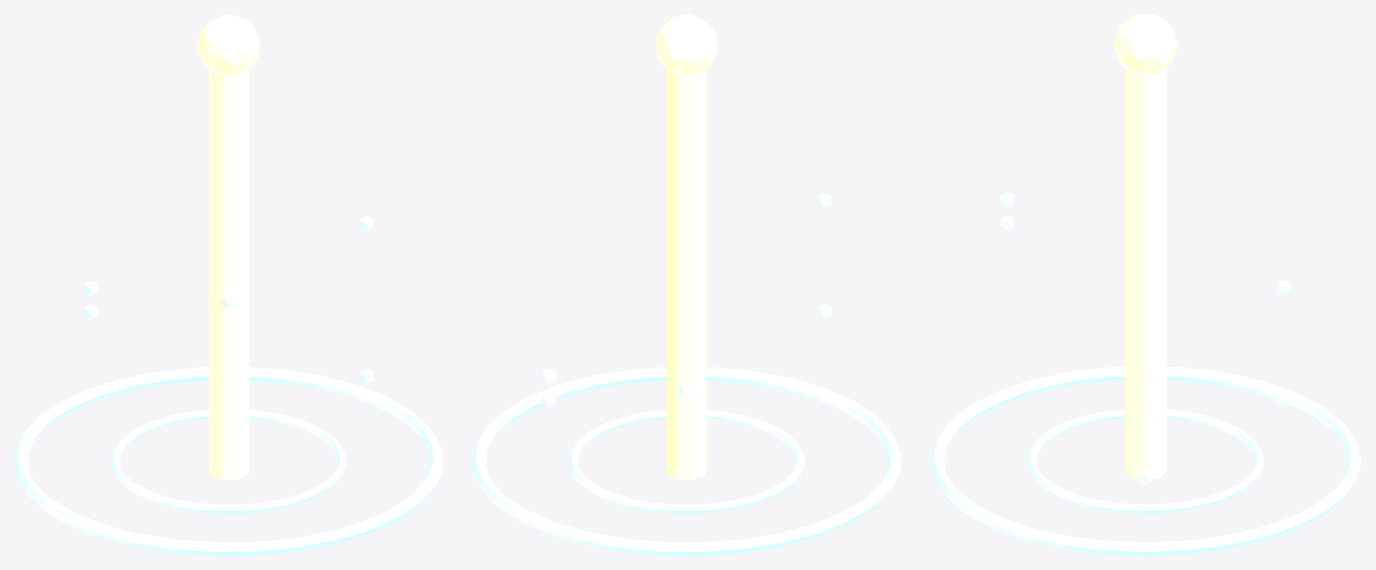
Rendered from drop-beacon-pillar.glb.
3 renders of one model, left to right at view 1: azimuth 30°, elevation 25°; view 2: azimuth 150°, elevation 25°; view 3: azimuth 270°, elevation 25°, orthographic.
Parts seen in each view (by area): view 1: drop-shaft, drop-ring, drop-ring-inner, drop-crown; view 2: drop-shaft, drop-ring, drop-ring-inner, drop-crown; view 3: drop-shaft, drop-ring, drop-ring-inner, drop-crown.
Boxes of the visible parts, x1,y1,x2,y2 form: drop-shaft: (209,69,248,479); drop-ring: (14,367,443,555); drop-ring-inner: (111,409,346,513); drop-crown: (197,14,260,76); drop-shaft: (667,69,706,479); drop-ring: (472,367,901,555); drop-ring-inner: (569,409,804,513); drop-crown: (655,14,718,76); drop-shaft: (1125,67,1166,478); drop-ring: (930,366,1361,555); drop-ring-inner: (1027,409,1264,513); drop-crown: (1113,14,1178,73).
Size of the model in its own units: 1.14 by 1.33 by 1.14.
